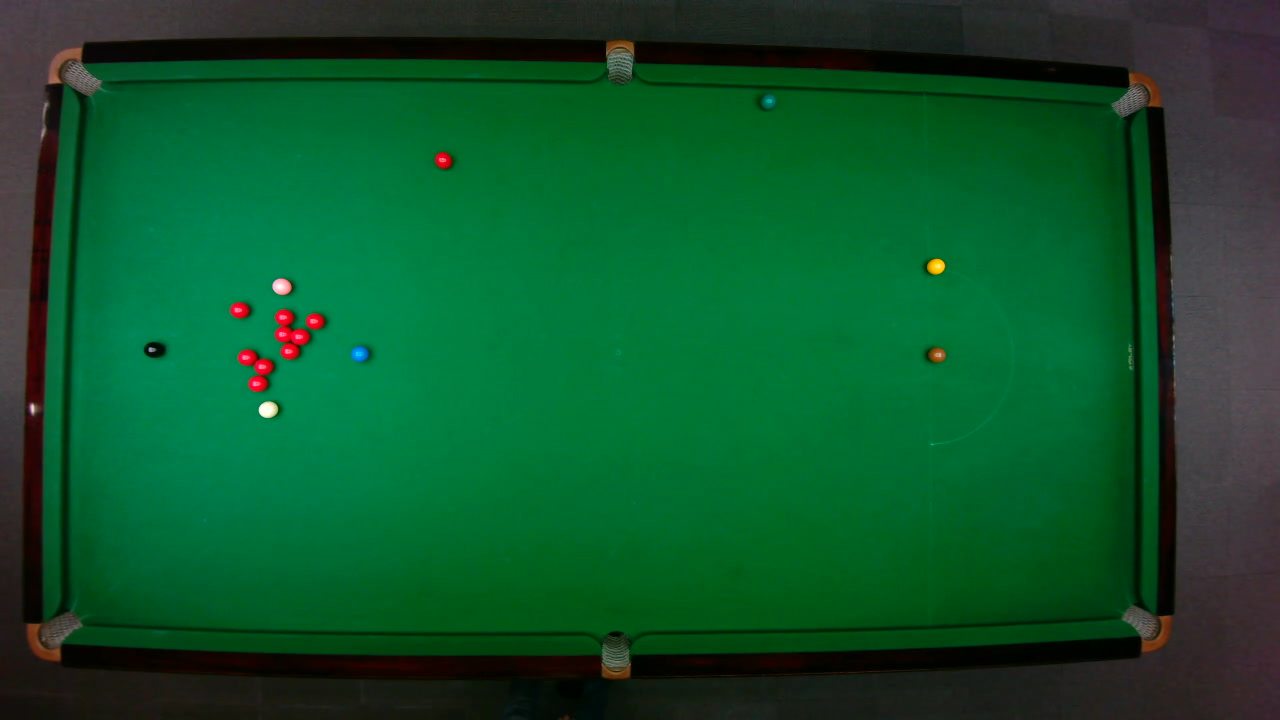bag: (25, 609, 83, 662), (45, 46, 101, 96), (1119, 603, 1172, 652), (1108, 71, 1161, 118), (600, 629, 629, 680), (605, 38, 633, 85)
black: (142, 340, 163, 358)
blue: (350, 344, 369, 362)
brown: (926, 346, 946, 362)
green: (758, 92, 776, 110)
pink: (270, 276, 292, 295)
red: (287, 326, 310, 345), (252, 356, 274, 375), (273, 307, 294, 326), (228, 300, 250, 318), (246, 374, 268, 392), (236, 347, 258, 365), (433, 150, 453, 169), (303, 311, 324, 329), (272, 325, 293, 342), (279, 342, 299, 359)
white: (256, 399, 279, 418)
yellow: (925, 256, 945, 274)
zone: (926, 264, 1013, 445)
